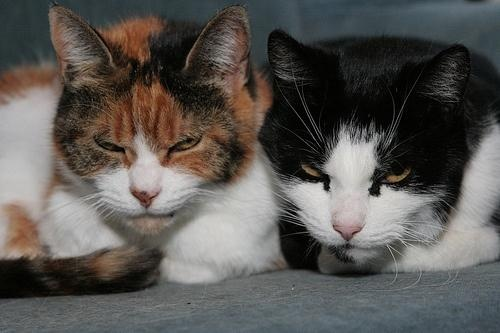cat: (1, 7, 273, 294), (256, 28, 500, 277)
